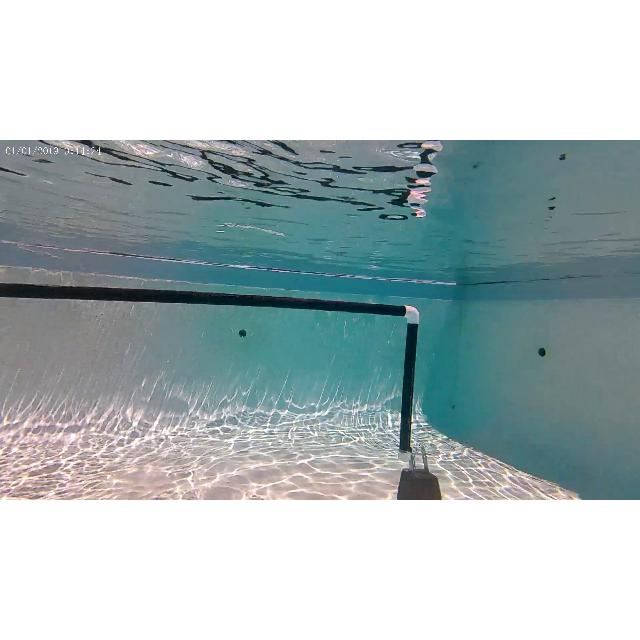prequal gate: (1, 282, 423, 463)
prequal gate leg l: (392, 304, 393, 308)
prequal gate leg r: (392, 302, 438, 500)
